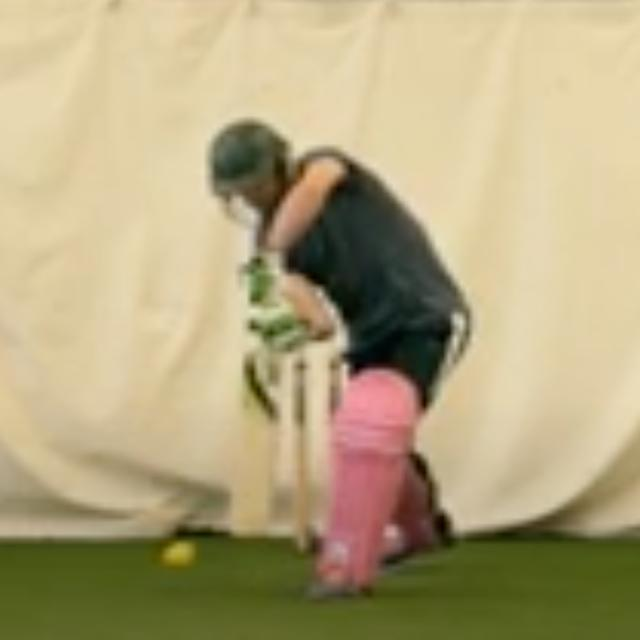bat: (233, 340, 278, 538)
